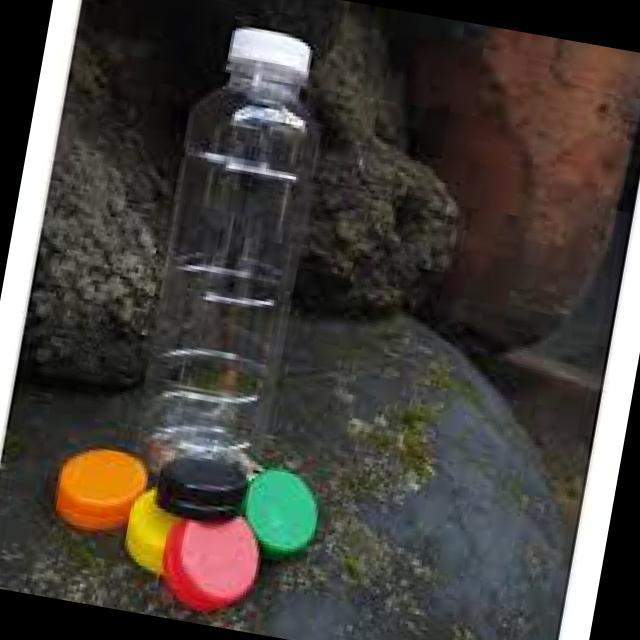good: (117, 4, 416, 516)
